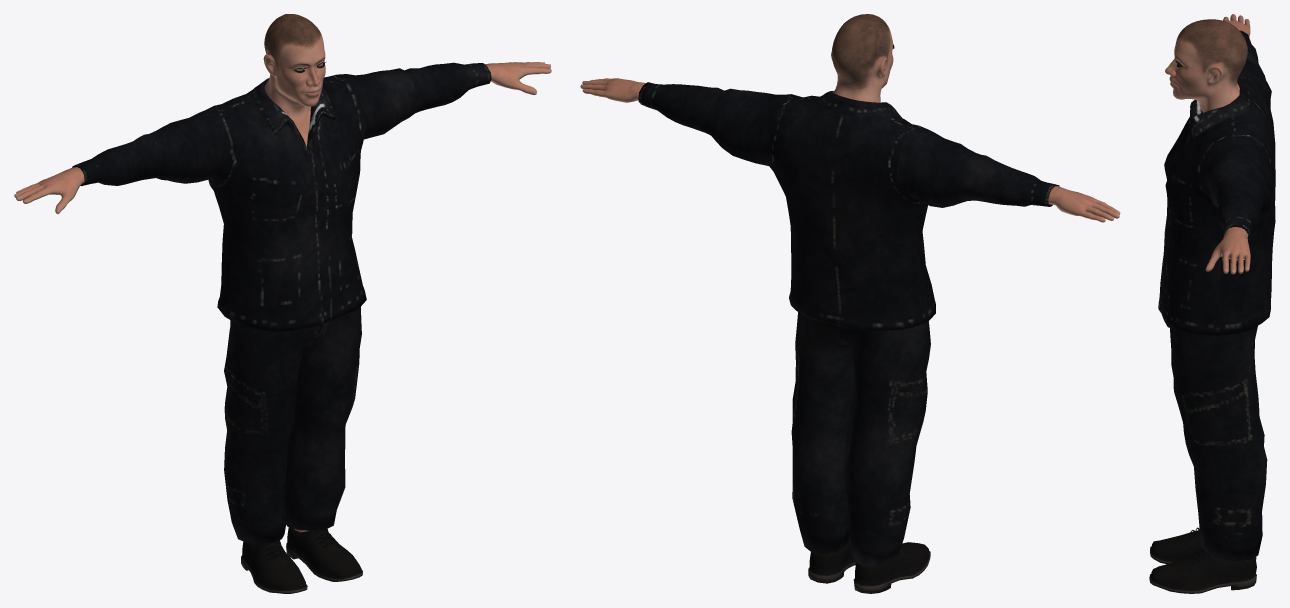
File: Hog.obj
The picture shows the model from 3 angles, left to right: view 1: azimuth 30°, elevation 25°; view 2: azimuth 150°, elevation 25°; view 3: azimuth 270°, elevation 25°; orthographic projection.
Visible parts, largest first — view 1: Tops, Bottoms, Body, Shoes; view 2: Tops, Bottoms, Body, Shoes; view 3: Tops, Bottoms, Body, Shoes.
Boxes of the visible parts, left/top/right/bottom form: Tops: left=72, top=62, right=491, bottom=332; Bottoms: left=224, top=307, right=361, bottom=543; Body: left=14, top=14, right=551, bottom=532; Shoes: left=241, top=527, right=362, bottom=593; Tops: left=638, top=82, right=1059, bottom=330; Bottoms: left=791, top=312, right=930, bottom=566; Body: left=580, top=14, right=1120, bottom=222; Shoes: left=808, top=540, right=930, bottom=593; Tops: left=1158, top=30, right=1275, bottom=335; Bottoms: left=1170, top=326, right=1267, bottom=560; Body: left=1165, top=14, right=1250, bottom=274; Shoes: left=1149, top=527, right=1256, bottom=593.
Bounding box in the file's own units: 176 × 174 × 36.1.
